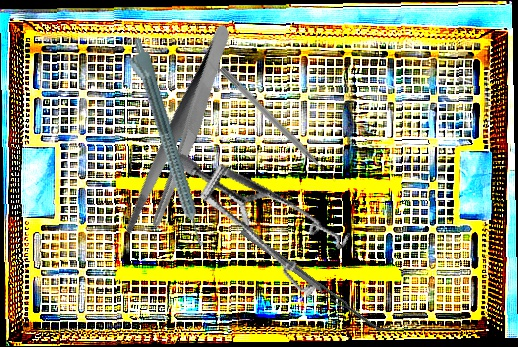Dressing Forceps: (83, 22, 281, 246)
Handpiece: (120, 36, 209, 251)
Pusher: (217, 65, 338, 186)
Spatula Surgical: (239, 222, 393, 338)
Speculum: (169, 107, 366, 326)
